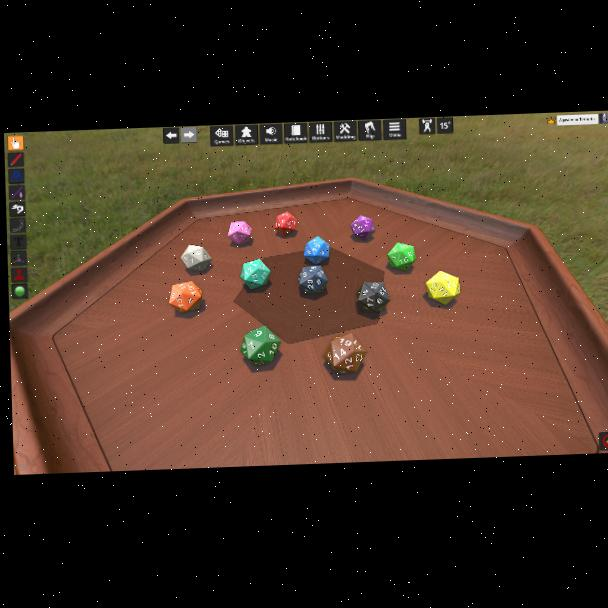d20: (240, 324, 283, 367), (322, 332, 365, 375), (168, 280, 204, 315), (425, 270, 459, 306), (357, 281, 390, 314), (239, 259, 270, 290), (180, 244, 211, 274), (298, 265, 328, 294), (302, 236, 329, 265), (388, 242, 414, 271), (274, 211, 298, 237), (351, 215, 375, 241), (226, 221, 250, 244)
